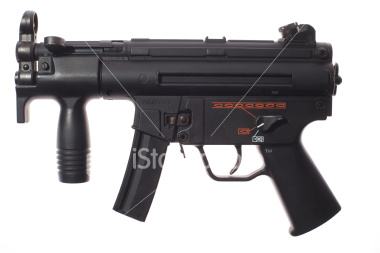rifle: (12, 11, 358, 222)
